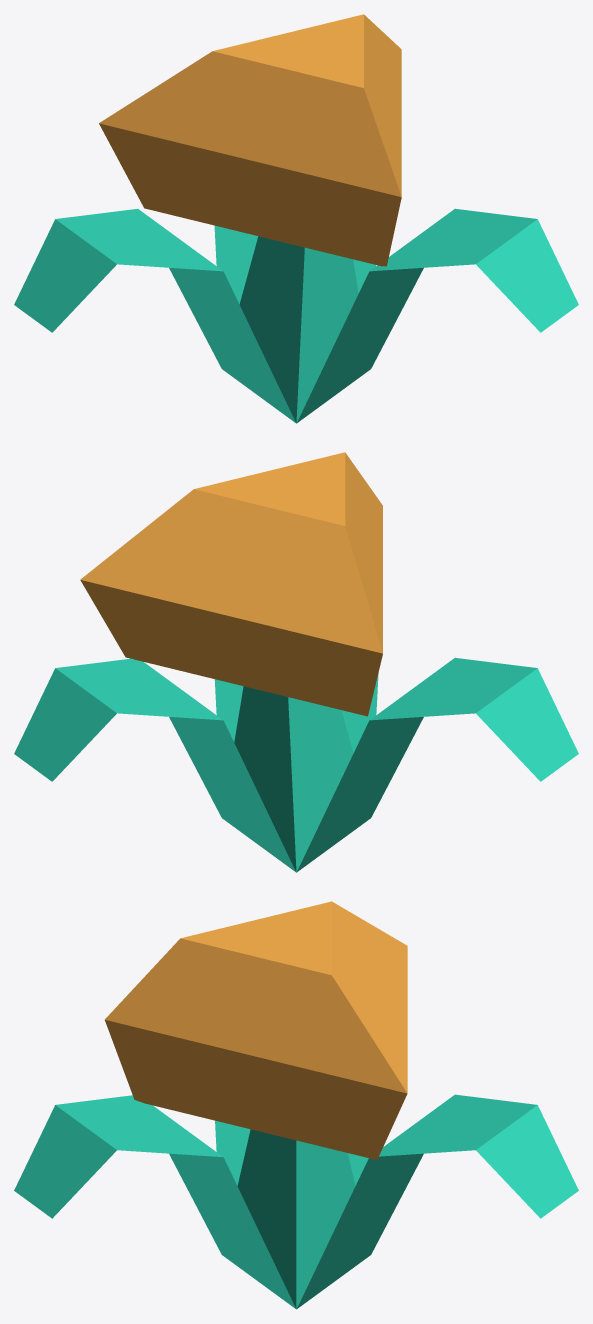
File: flower-yellow-b.glb
3 renders of one model, top to bottom at view 1: azimuth 30°, elevation 25°; view 2: azimuth 150°, elevation 25°; view 3: azimuth 270°, elevation 25°, orthographic.
Visible parts, largest first — view 1: flower_yellowB; view 2: flower_yellowB; view 3: flower_yellowB.
Boxes of the visible parts, bbox=[...] form: flower_yellowB: bbox=[14, 14, 578, 423]; flower_yellowB: bbox=[14, 452, 578, 872]; flower_yellowB: bbox=[14, 901, 578, 1309].
Bounding box in the file's own units: 0.2073 × 0.1585 × 0.2392.
